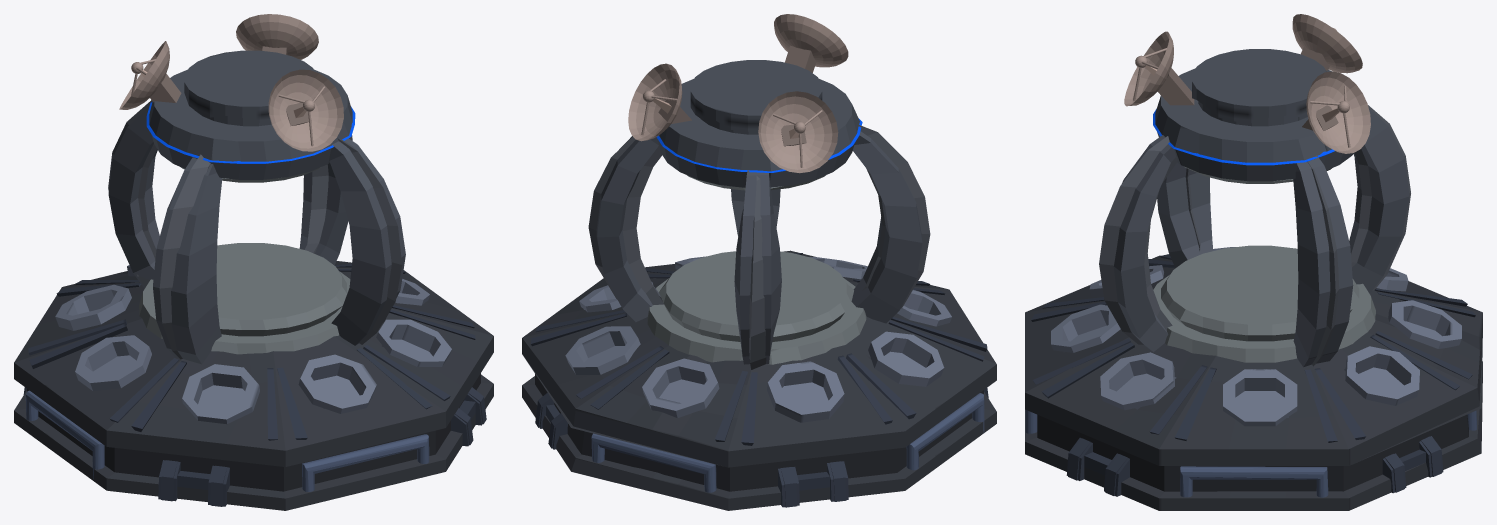
Rendered from dampener.fbx.
3 renders of one model, left to right at view 1: azimuth 30°, elevation 25°; view 2: azimuth 150°, elevation 25°; view 3: azimuth 270°, elevation 25°, orthographic. The views are drawn at different scales.
Visible parts, largest first — view 1: cylinder, sphere, cylinder_20, cylinder_26, cylinder_7, cylinder_25, cylinder_9, sphere_1, cylinder_4, cylinder_3, cylinder_5, cylinder_19 (+23 smaller); view 2: cylinder, sphere, cylinder_20, cylinder_26, cylinder_7, cylinder_9, cylinder_25, cylinder_19, sphere_6, cylinder_6, cylinder_22, sphere_7 (+20 smaller); view 3: cylinder, sphere, cylinder_20, cylinder_7, cylinder_26, cylinder_9, cylinder_25, cylinder_19, sphere_10, cylinder_1, sphere_4, cylinder_23 (+21 smaller).
Boxes of the visible parts, box(x1,y1,x2,y2) form: cylinder: box(14, 261, 493, 466); sphere: box(108, 106, 405, 364); cylinder_20: box(216, 243, 346, 336); cylinder_26: box(14, 374, 493, 510); cylinder_7: box(149, 69, 352, 179); cylinder_25: box(27, 373, 480, 491); cylinder_9: box(184, 50, 315, 123); sphere_1: box(268, 69, 343, 151); cylinder_4: box(182, 364, 259, 424); cylinder_3: box(298, 354, 376, 413); cylinder_5: box(75, 335, 151, 391); cylinder_19: box(139, 271, 350, 354); cylinder: box(522, 250, 996, 467); sphere: box(596, 131, 922, 364); cylinder_20: box(659, 251, 853, 341); cylinder_26: box(522, 376, 996, 510); cylinder_7: box(657, 79, 859, 187); cylinder_9: box(690, 60, 822, 131); cylinder_25: box(535, 374, 983, 491); cylinder_19: box(647, 277, 866, 364); sphere_6: box(758, 91, 838, 173); cylinder_6: box(767, 361, 844, 422); cylinder_22: box(642, 358, 719, 418); sphere_7: box(588, 137, 663, 305); cylinder: box(1025, 255, 1482, 465); sphere: box(1113, 108, 1409, 367); cylinder_20: box(1161, 245, 1359, 341); cylinder_7: box(1155, 68, 1353, 181); cylinder_26: box(1025, 361, 1482, 510); cylinder_9: box(1192, 49, 1326, 123); cylinder_25: box(1037, 414, 1468, 491); cylinder_19: box(1153, 275, 1375, 362); sphere_10: box(1099, 136, 1177, 344); cylinder_1: box(1223, 369, 1297, 426); sphere_4: box(1306, 71, 1370, 153); cylinder_23: box(1344, 346, 1419, 405).
Bounding box in the file's own units: 462 × 421 × 463.
14 materials, 14 textured.
